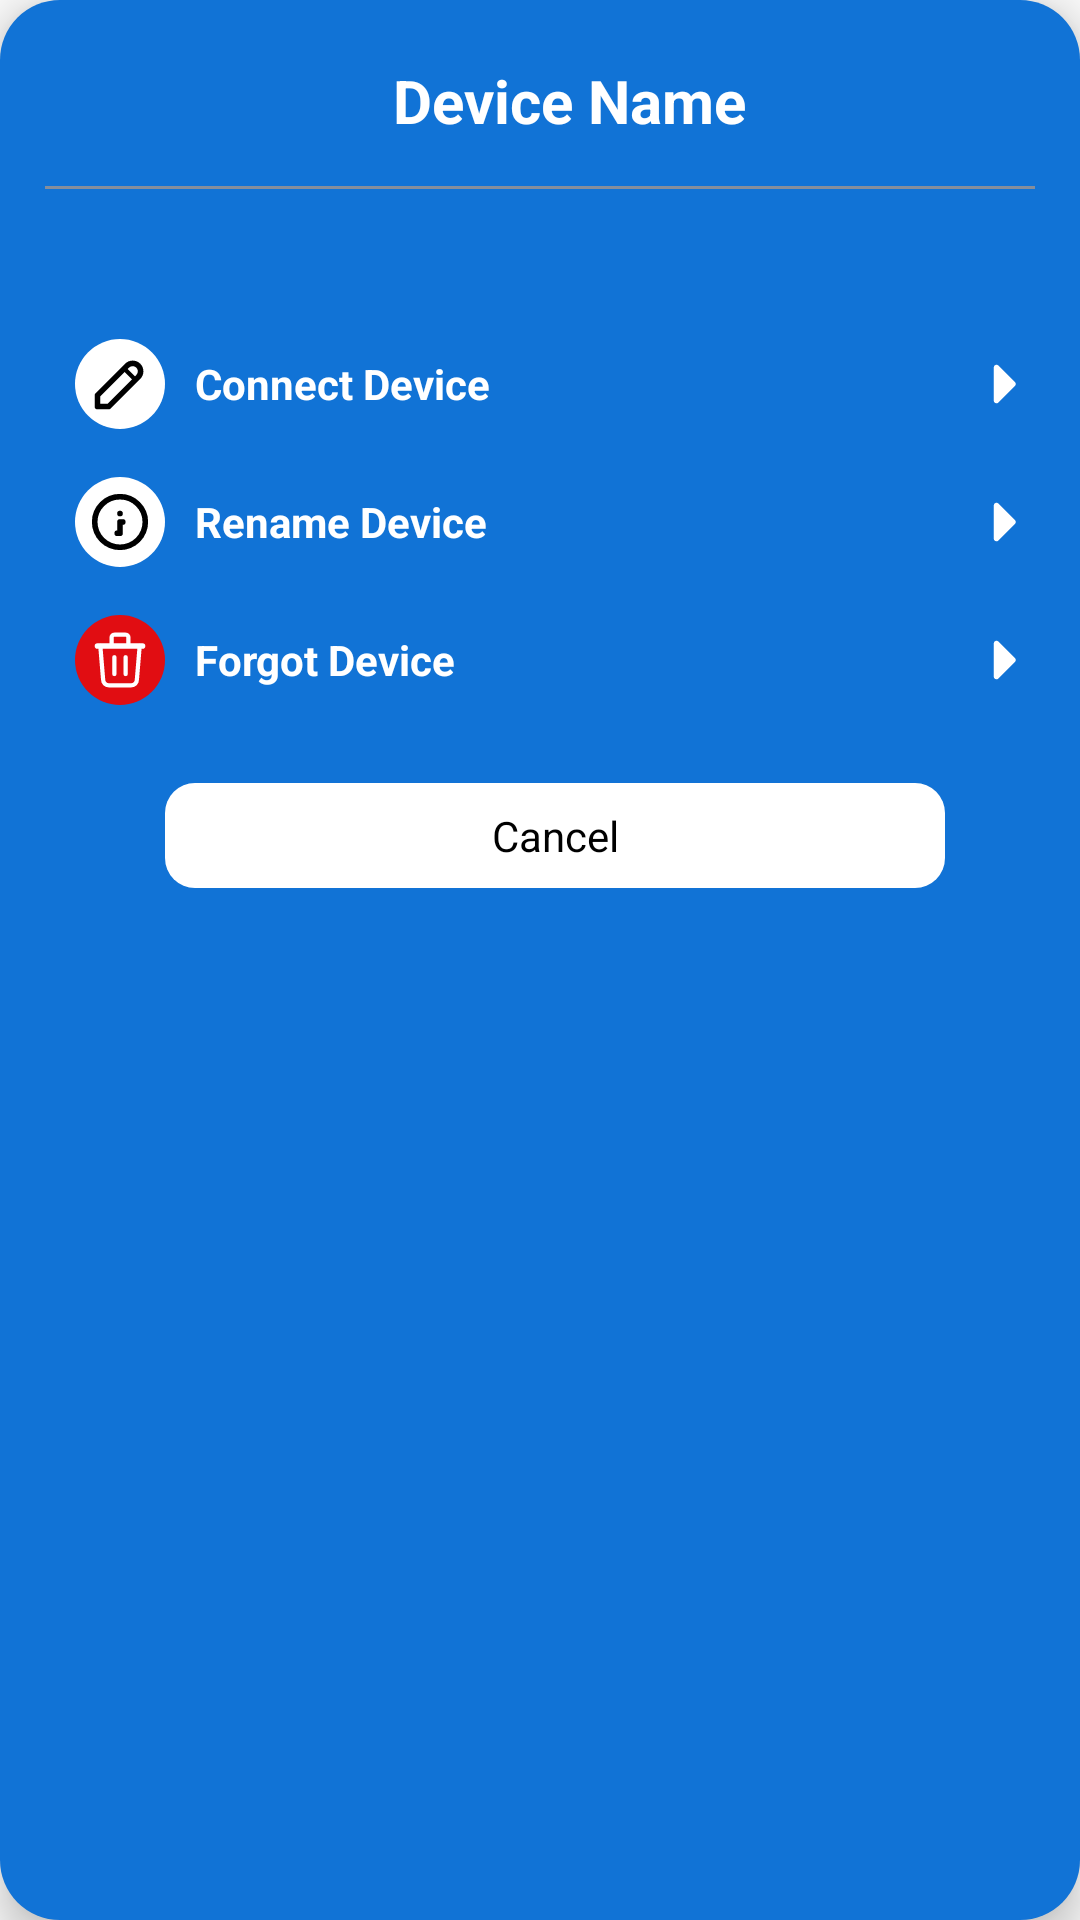

Screen size 1080px x 1920px. Icon name, then its center in pixels as (x=x, y=y):
delete: (x=120, y=660)
edit: (x=120, y=384)
play: (x=1004, y=384), (x=1004, y=522), (x=1004, y=660)
